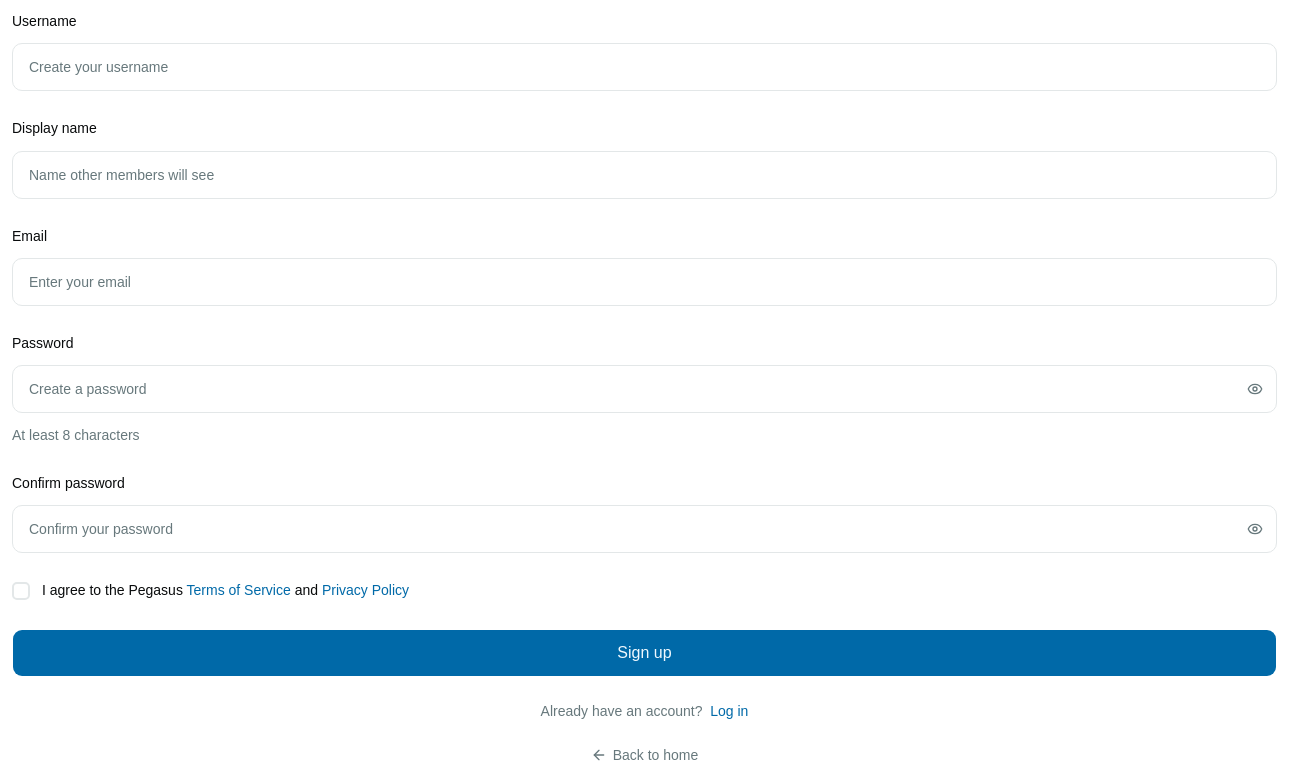
Scenario: RegisterForm › shows validation errors for empty fields
Click the button "Sign up" at x=644, y=652, box x1=12 y1=628 x2=1277 y2=676
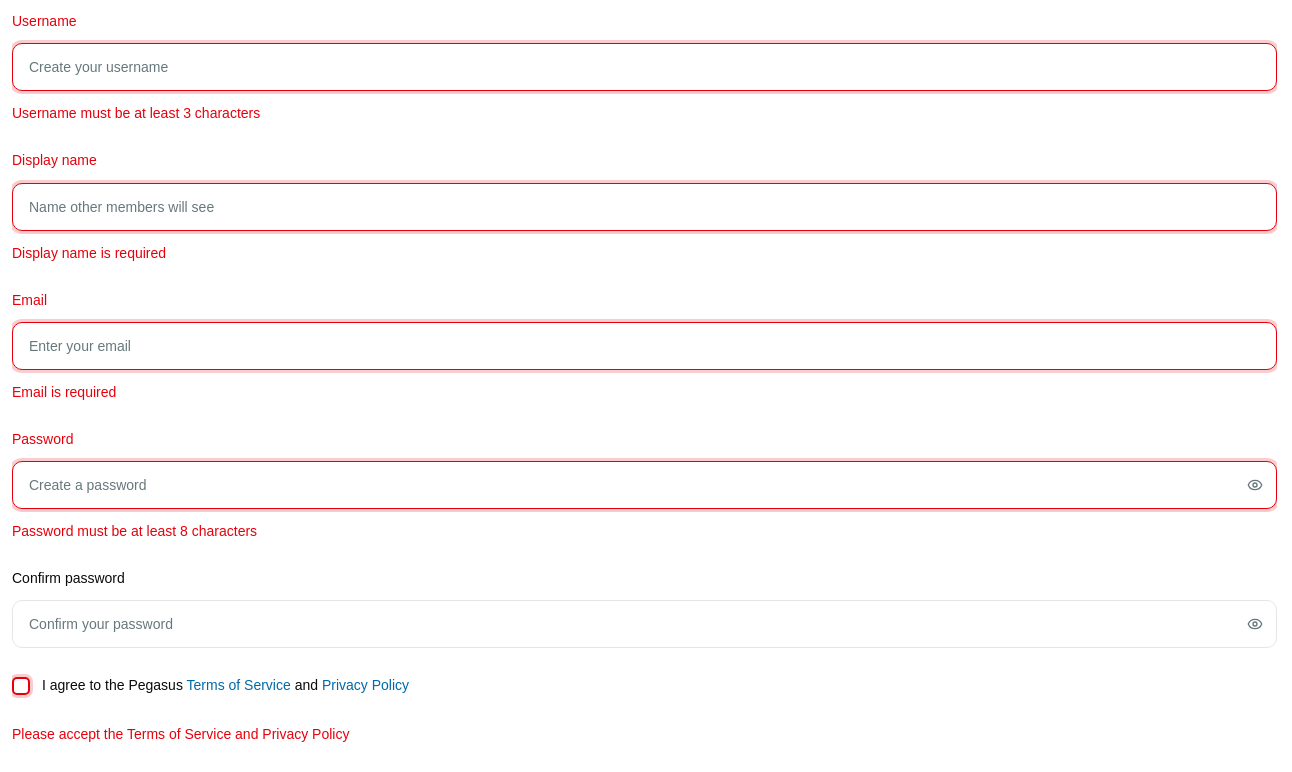
Result: the text "Username must be at least 3 characters" is shown at x1=12 y1=105 x2=260 y2=121
Result: the text "Email is required" is shown at x1=12 y1=384 x2=116 y2=400
